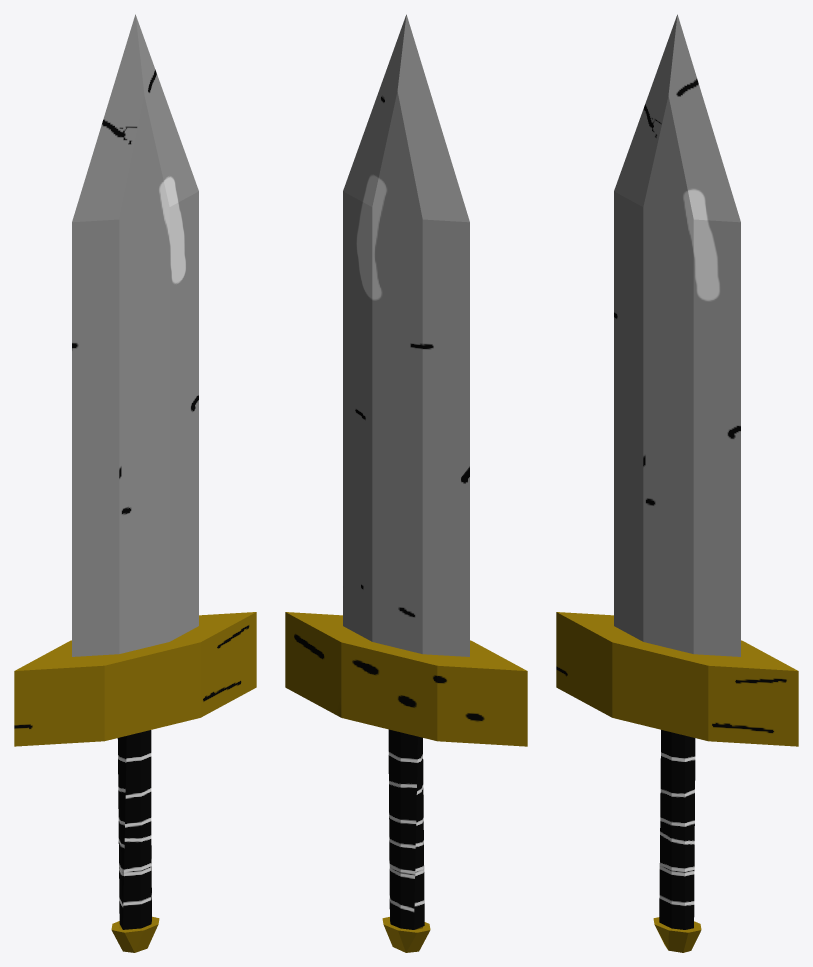
Rendered from sword_steel.glb.
3 renders of one model, left to right at view 1: azimuth 30°, elevation 25°; view 2: azimuth 150°, elevation 25°; view 3: azimuth 330°, elevation 25°, orthographic.
Visible parts, largest first — view 1: Cube; view 2: Cube; view 3: Cube.
Boxes of the visible parts, <box> form: Cube: <box>14,14,256,952</box>; Cube: <box>285,14,527,952</box>; Cube: <box>556,14,798,952</box>.
Bounding box in the file's own units: 1.07 × 3.93 × 0.2608.
1 material, 1 textured.
